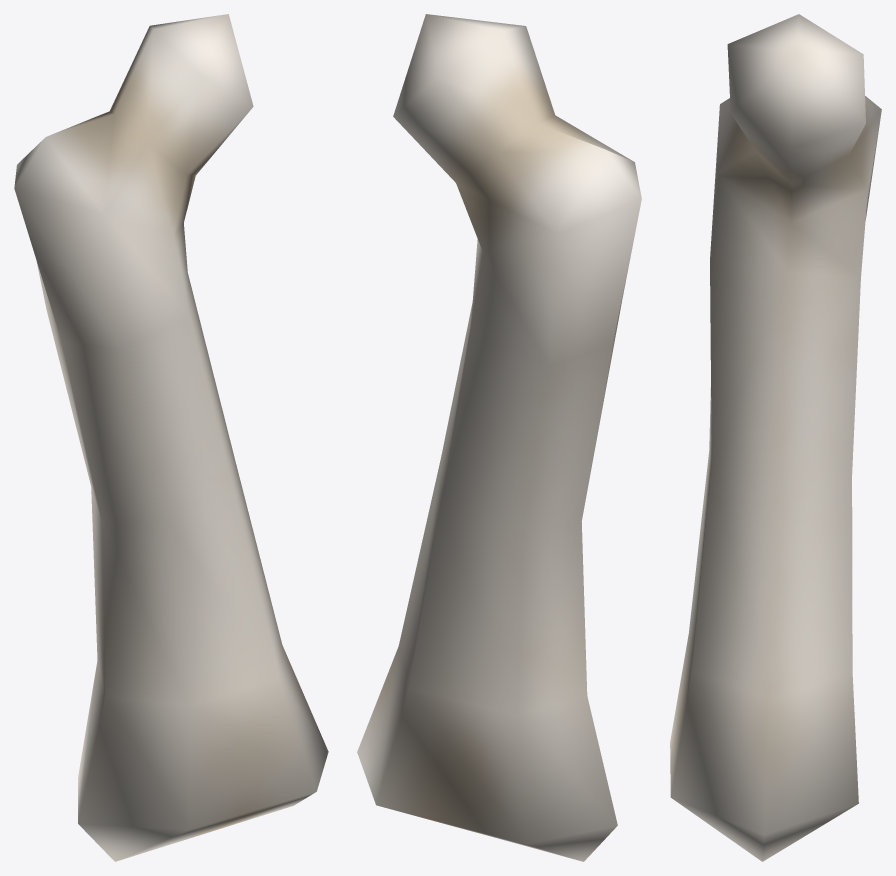
The model's file is Femur.fbx.
3 views of the same model, side by side, from view 1: azimuth 30°, elevation 25°; view 2: azimuth 150°, elevation 25°; view 3: azimuth 270°, elevation 25° (orthographic). The views are drawn at different scales.
Parts seen in each view (by area): view 1: Femur; view 2: Femur; view 3: Femur.
Part boxes in pixels (x1,y1,x2,y2): Femur: [14, 14, 328, 861]; Femur: [357, 14, 641, 861]; Femur: [670, 14, 881, 861].
Bounding box in the file's own units: 6.88 × 17.91 × 4.3.
